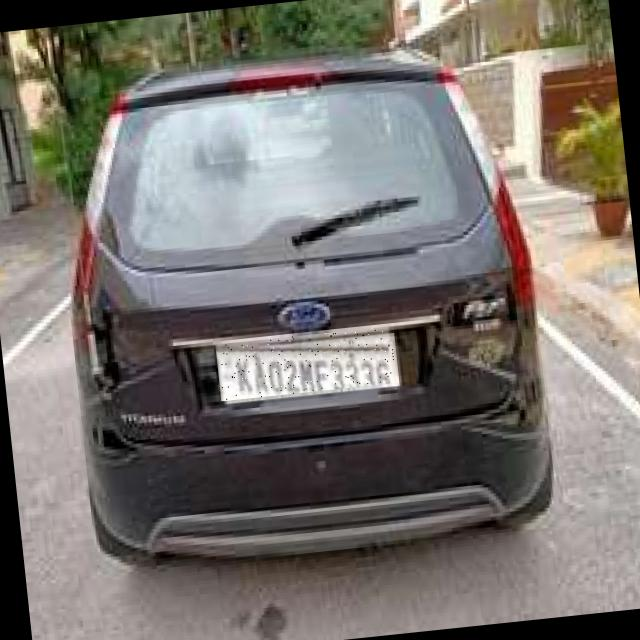Plate: (217, 327, 398, 402)
